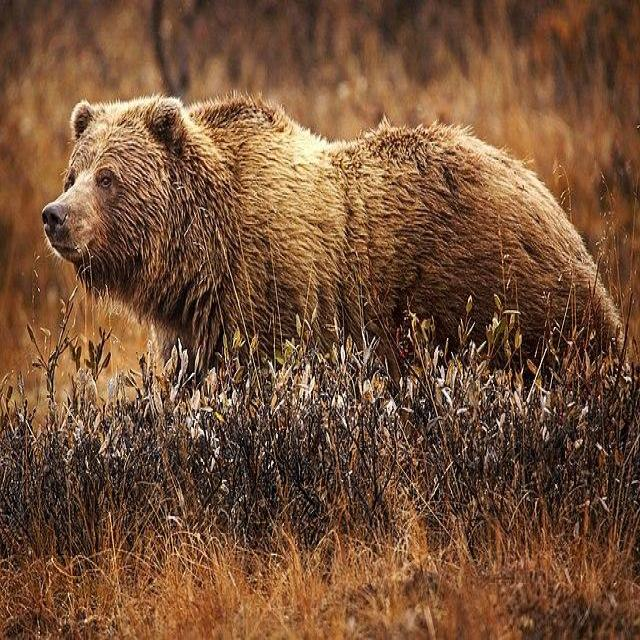Bear: (39, 95, 625, 373)
